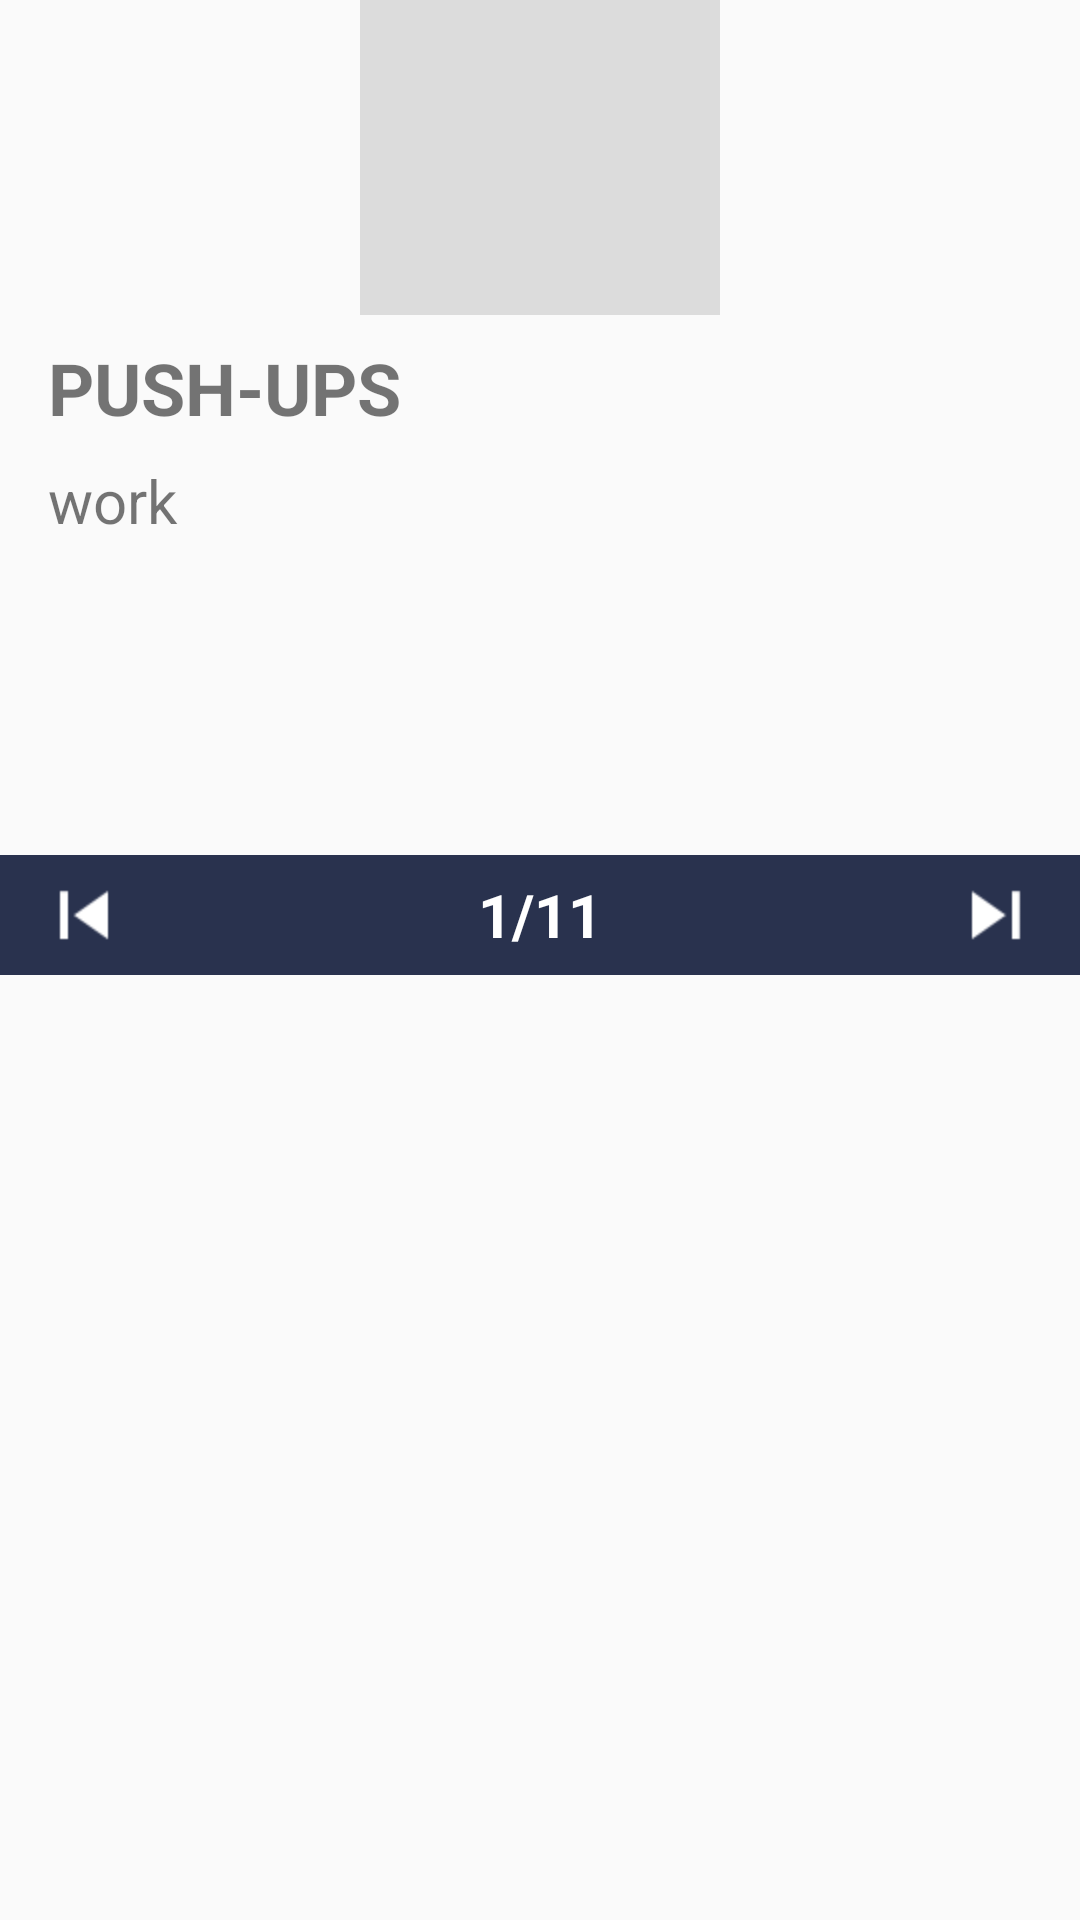

Where icons sit on this 1080w x 1920h app screen, as (x1, y1, x2, y2):
next: (971, 890, 1021, 940)
pre: (59, 890, 109, 940)
